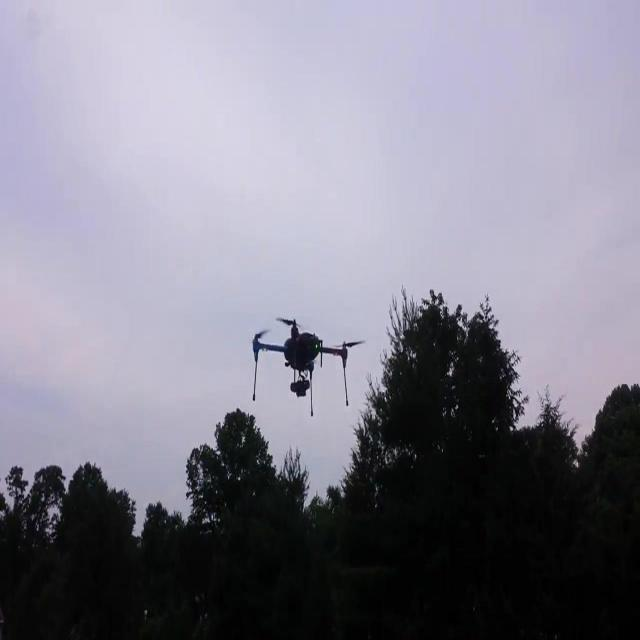UAV: (252, 316, 366, 417)
